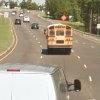Bus: (41, 21, 75, 58)
